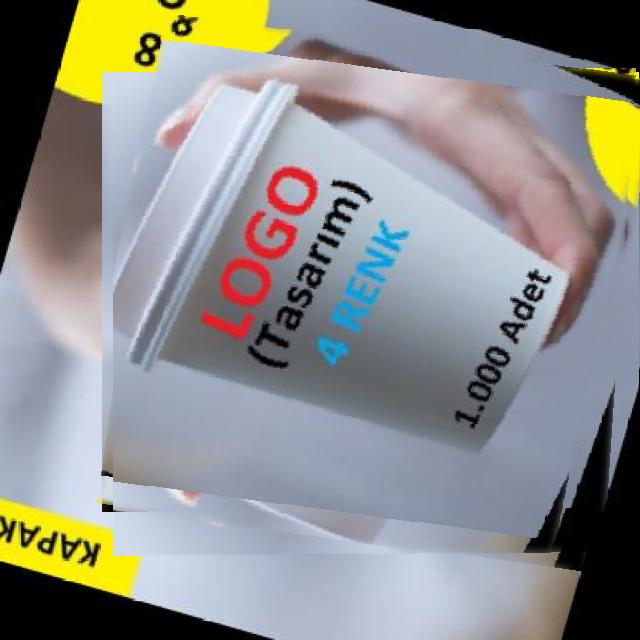non-biodegradable: (113, 29, 639, 556)
